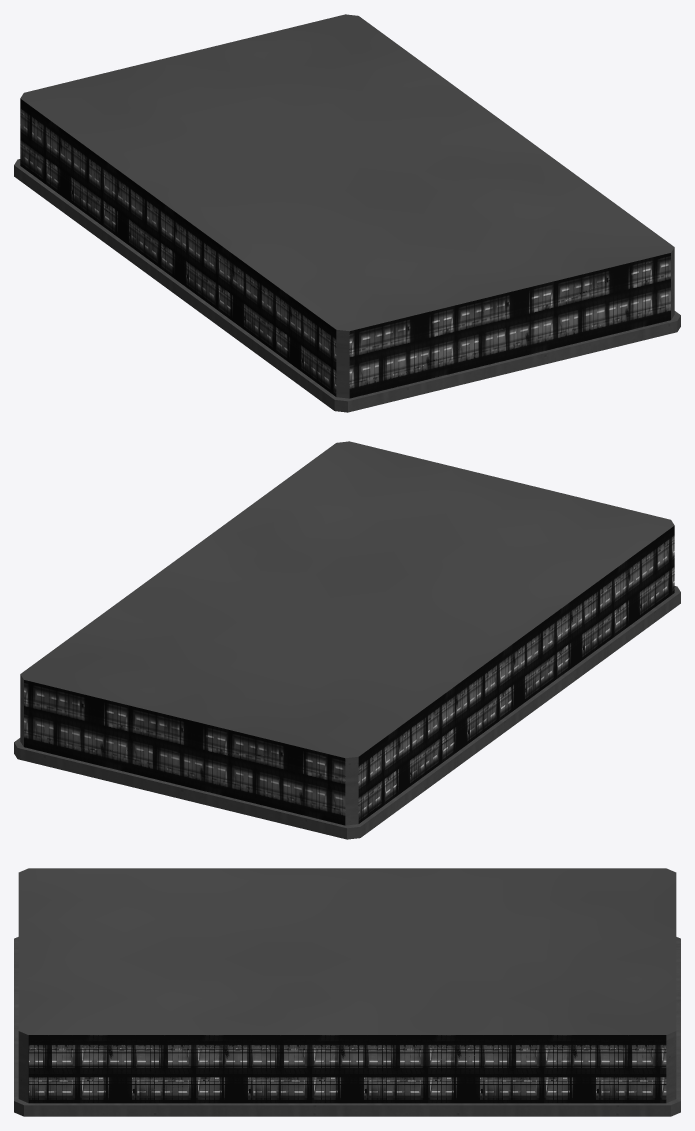
The model's file is SM_BuildingGround.FBX.
The picture shows the model from 3 angles, top to bottom: view 1: azimuth 30°, elevation 25°; view 2: azimuth 150°, elevation 25°; view 3: azimuth 270°, elevation 25°; orthographic projection.
Parts seen in each view (by area): view 1: SM_BuildingGround; view 2: SM_BuildingGround; view 3: SM_BuildingGround.
Part boxes in pixels (x1,y1,x2,y2): SM_BuildingGround: (14,14,680,412); SM_BuildingGround: (14,441,680,839); SM_BuildingGround: (14,868,680,1116).
Size of the model in its own units: 1842 by 400 by 3042.
